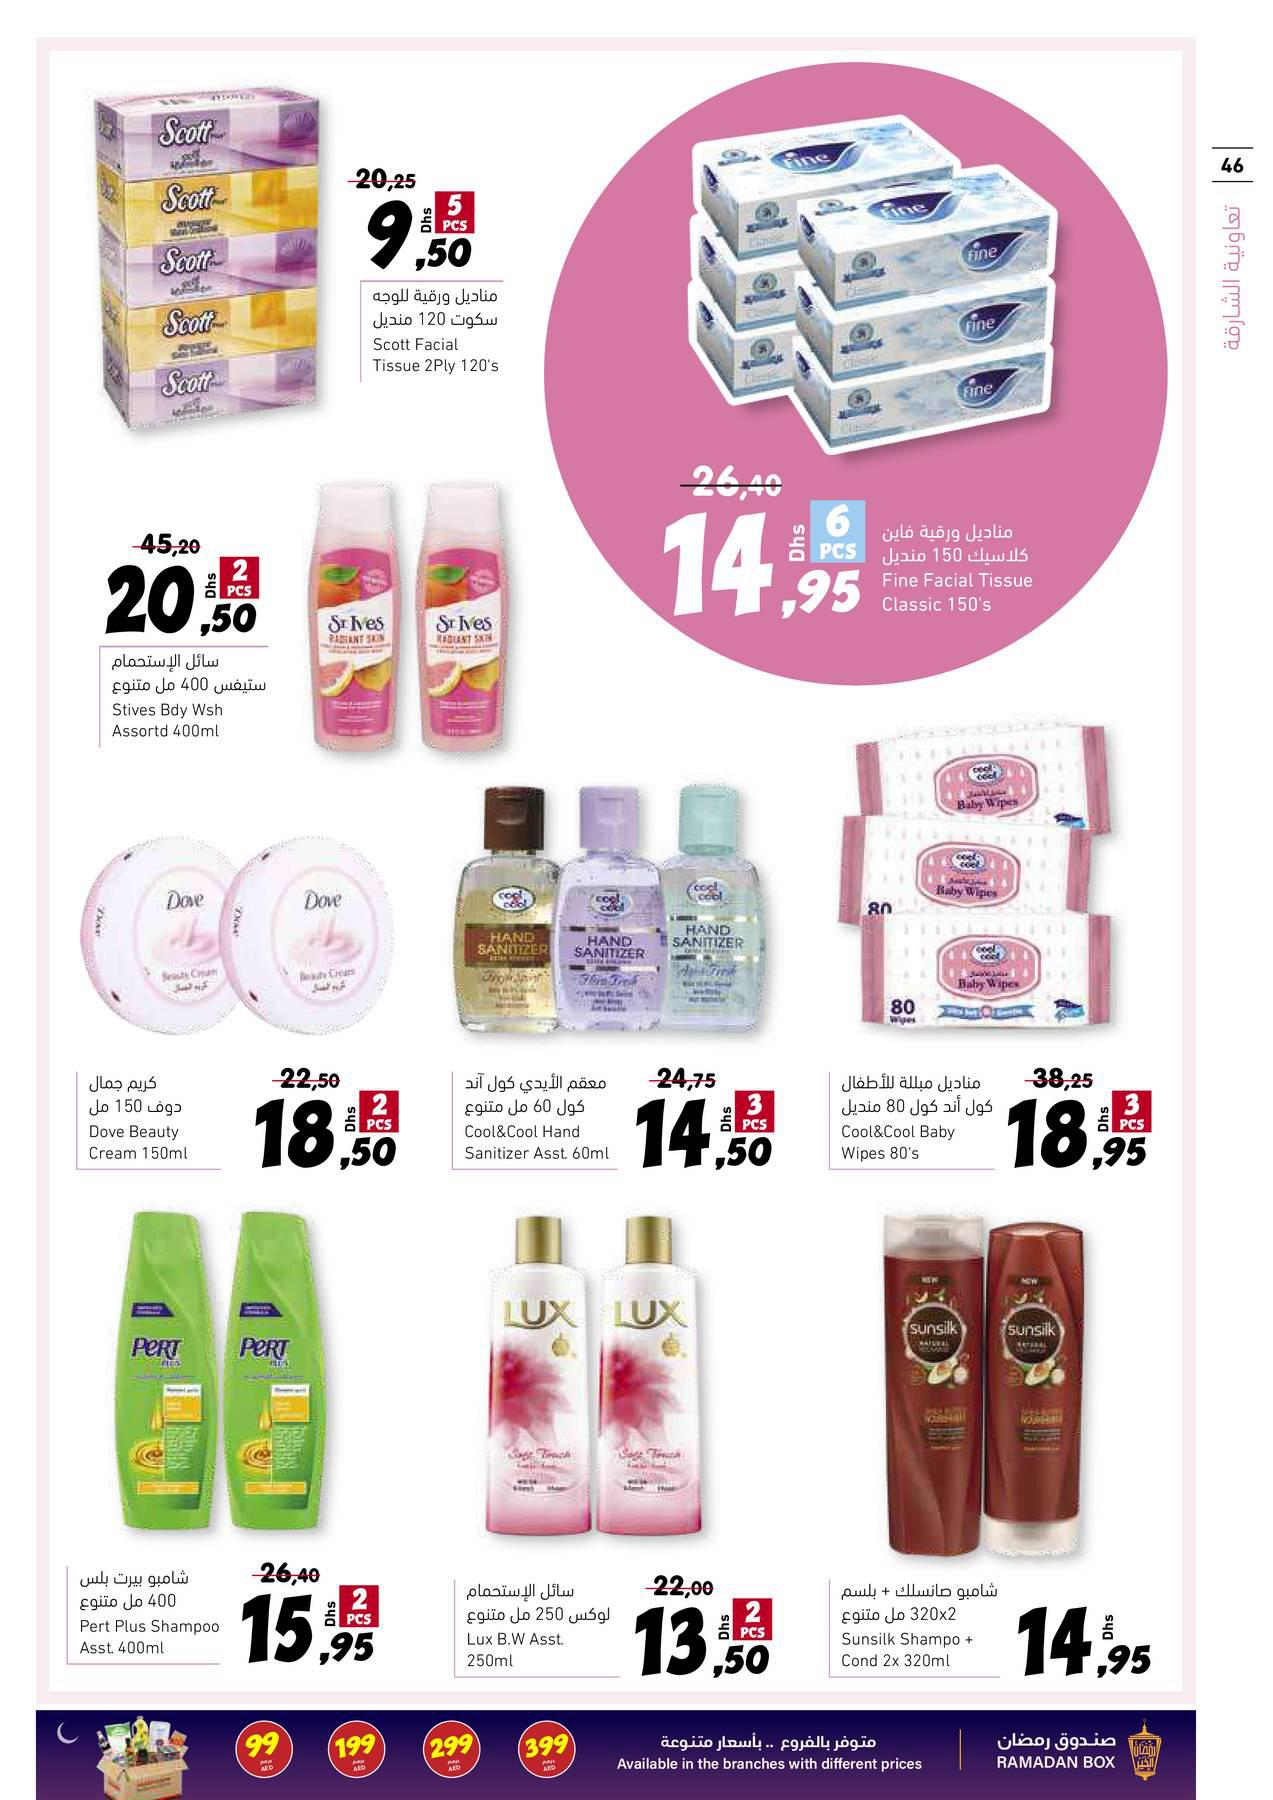text: (457, 1573, 621, 1633), (873, 515, 1040, 572), (102, 646, 271, 701), (835, 1576, 1008, 1628), (74, 1560, 222, 1621), (453, 1067, 619, 1120), (835, 1069, 999, 1121), (451, 1118, 619, 1169), (103, 695, 266, 746), (365, 332, 504, 388), (878, 570, 1037, 618), (834, 1628, 986, 1675), (828, 1118, 980, 1164), (365, 286, 513, 331), (81, 1067, 196, 1122), (457, 1626, 580, 1675), (77, 1122, 207, 1168)
